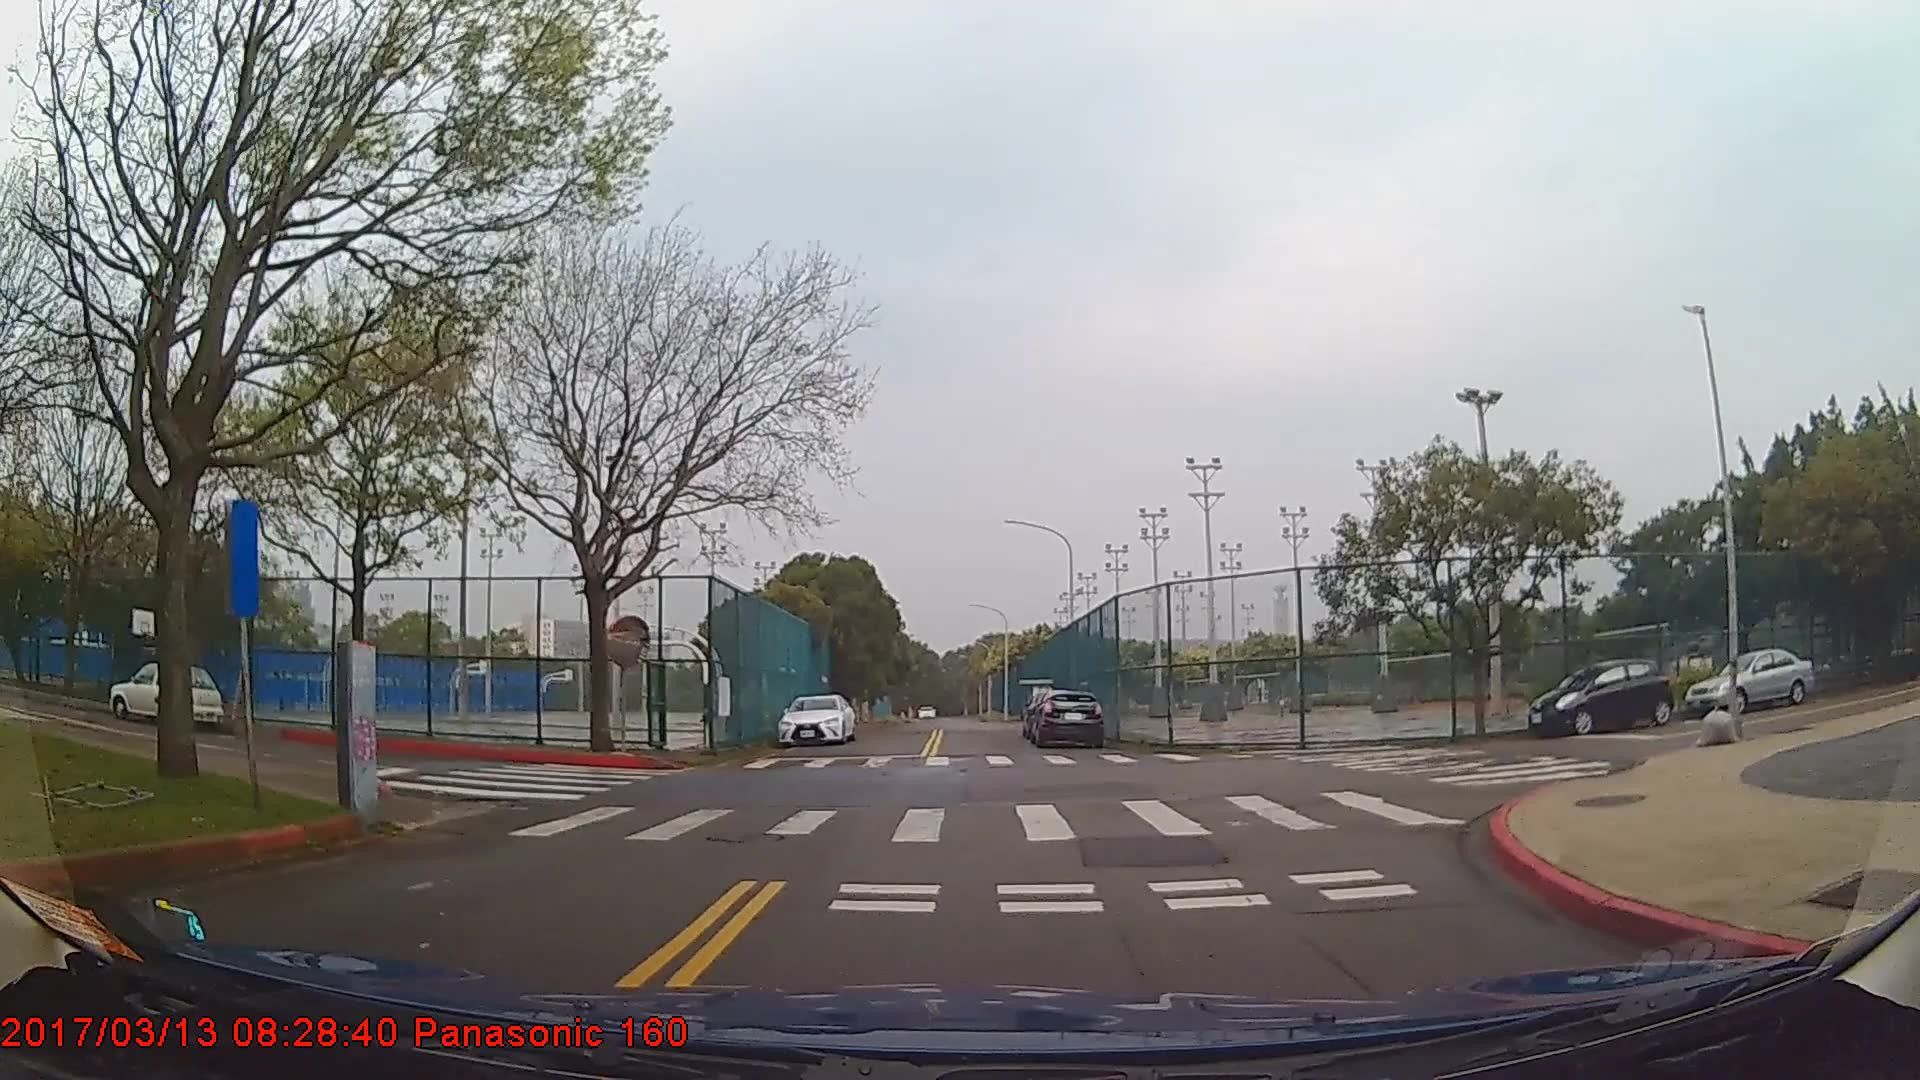vehicle: (1527, 655, 1673, 735), (1687, 646, 1818, 713), (109, 659, 223, 727), (1027, 688, 1102, 748), (777, 690, 856, 744)
